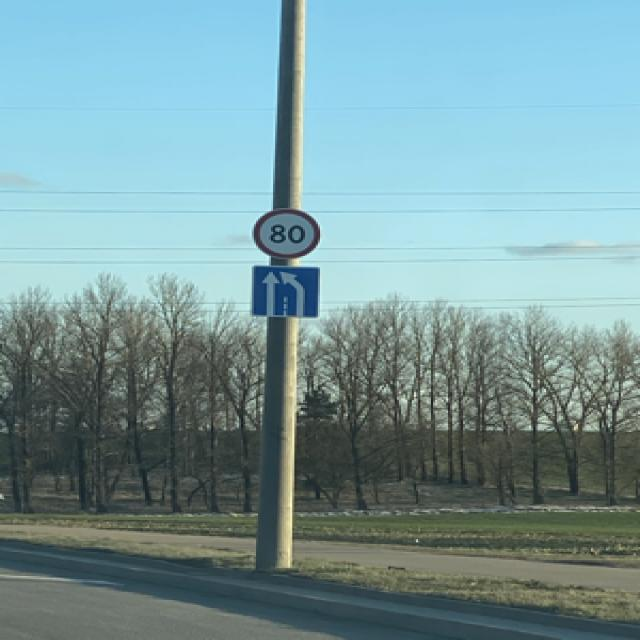speedlimit: (247, 206, 318, 258)
